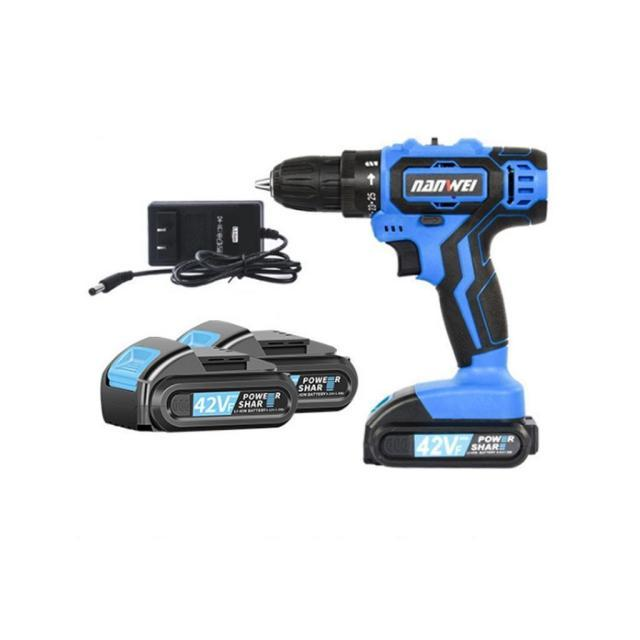drill: (255, 137, 550, 470), (100, 337, 296, 431), (178, 320, 359, 414)
